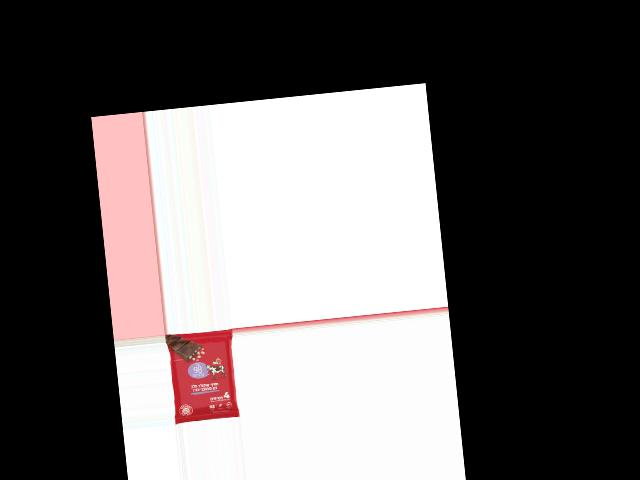chocolate: (167, 329, 240, 424)
